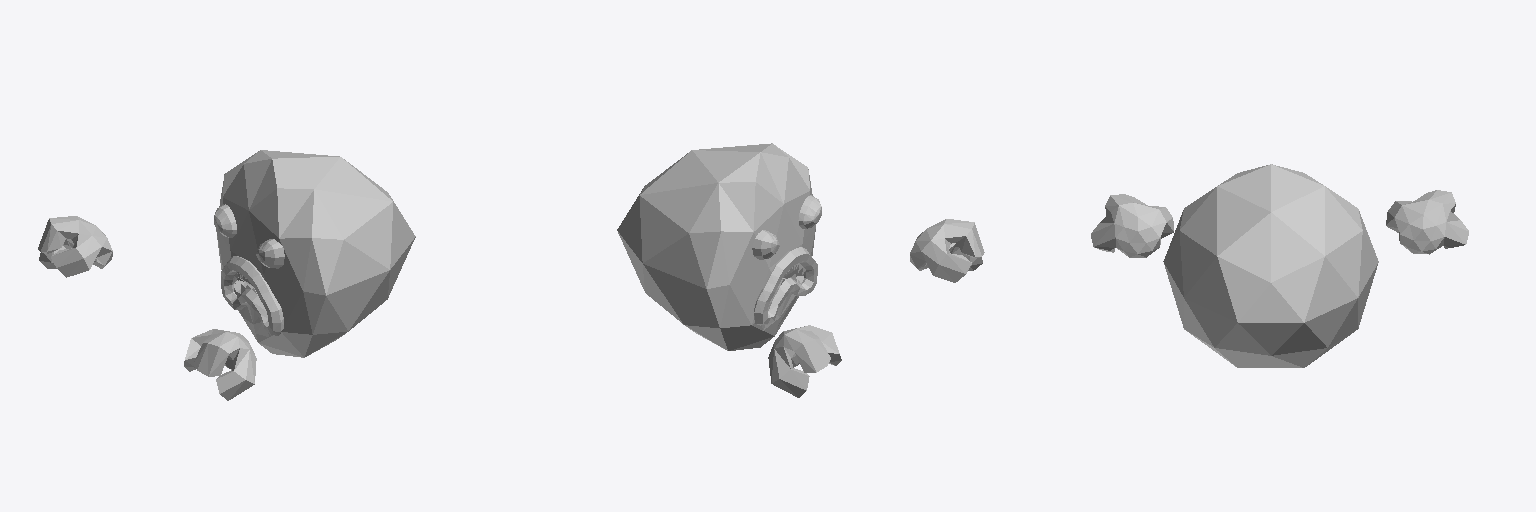
Rendered from Seeker_3.obj.
The picture shows the model from 3 angles: view 1: azimuth 30°, elevation 25°; view 2: azimuth 150°, elevation 25°; view 3: azimuth 270°, elevation 25°; orthographic projection.
Visible parts, largest first — view 1: Icosphere; view 2: Icosphere; view 3: Icosphere.
Part boxes in pixels (bbox=[...]): Icosphere: bbox=[38, 150, 415, 400]; Icosphere: bbox=[617, 143, 984, 397]; Icosphere: bbox=[1091, 164, 1468, 367].
Bounding box in the file's own units: 2.97 × 2 × 3.52.